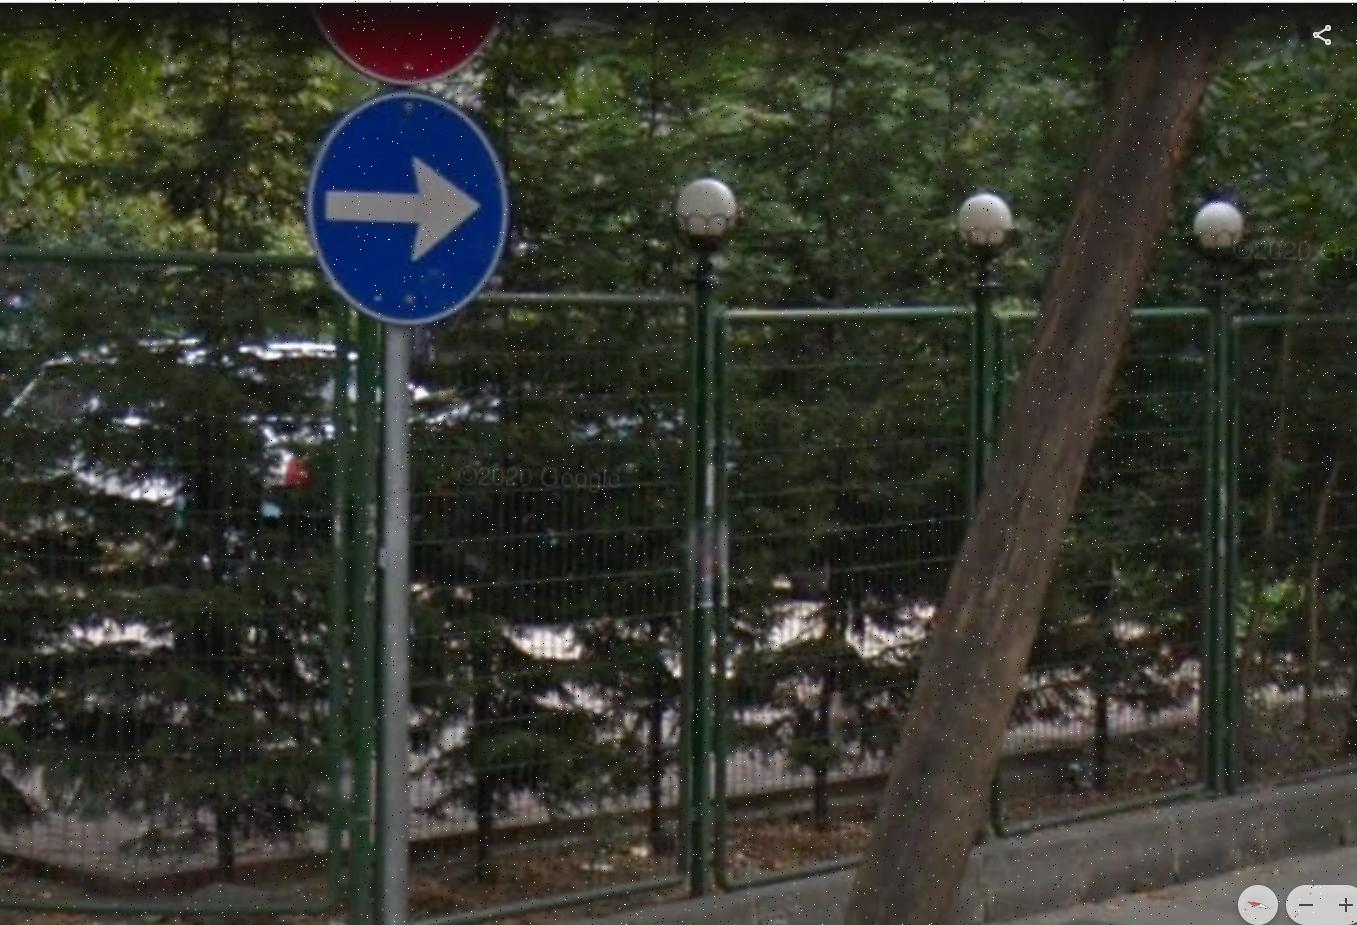turnright: (301, 89, 522, 334)
